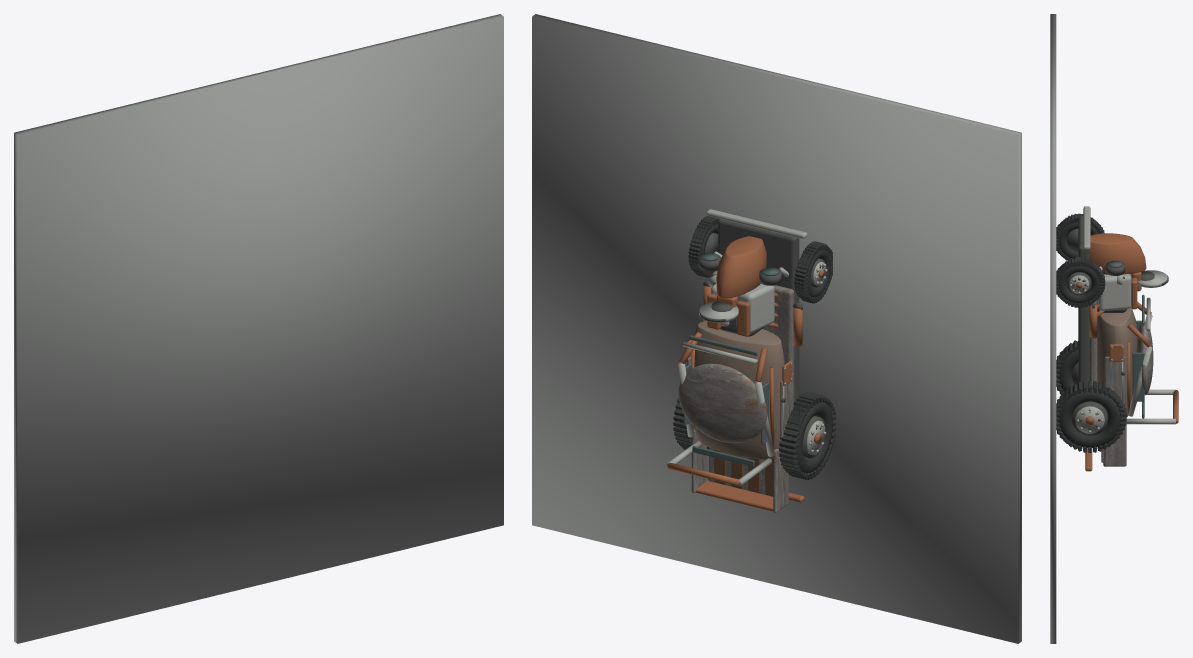
Rendered from rattler.glb.
The picture shows the model from 3 angles, left to right: view 1: azimuth 30°, elevation 25°; view 2: azimuth 150°, elevation 25°; view 3: azimuth 270°, elevation 25°; orthographic projection. The views are drawn at different scales.
Visible parts, largest first — view 1: Review ground; view 2: Review ground, Crowned chopped roof skin, Curved chopped cab lower shell, Twin ladder rails, Narrow hand-rolled grille shell, Floor pan, Game-pattern torus tyre.001, Cast cylinder head, Steel tailgate, Front narrow tube bumper, Pickup bed rolled side; view 3: Review ground, Curved chopped cab lower shell, Game-pattern torus tyre.003, Narrow hand-rolled grille shell, Twin ladder rails, Cast cylinder head.001, Game-pattern torus tyre.002, Curved door lower panel right, Pickup bed rolled side.001, Crowned chopped roof skin, Worn alloy wheel face.003, Game-pattern torus tyre.001 (+14 smaller).
Boxes of the visible parts, bbox=[...] form: Review ground: bbox=[14, 14, 503, 643]; Review ground: bbox=[532, 14, 1021, 643]; Crowned chopped roof skin: bbox=[678, 363, 767, 443]; Curved chopped cab lower shell: bbox=[694, 321, 784, 459]; Twin ladder rails: bbox=[718, 219, 799, 400]; Narrow hand-rolled grille shell: bbox=[716, 236, 766, 298]; Floor pan: bbox=[712, 271, 794, 402]; Game-pattern torus tyre.001: bbox=[786, 402, 832, 473]; Cast cylinder head: bbox=[736, 283, 774, 332]; Steel tailgate: bbox=[695, 480, 773, 511]; Front narrow tube bumper: bbox=[706, 209, 807, 238]; Pickup bed rolled side: bbox=[773, 449, 788, 512]; Review ground: bbox=[1050, 14, 1056, 643]; Curved chopped cab lower shell: bbox=[1097, 307, 1137, 417]; Game-pattern torus tyre.003: bbox=[1057, 385, 1122, 447]; Narrow hand-rolled grille shell: bbox=[1089, 233, 1146, 274]; Twin ladder rails: bbox=[1078, 216, 1089, 386]; Cast cylinder head.001: bbox=[1097, 274, 1131, 310]; Game-pattern torus tyre.002: bbox=[1058, 264, 1099, 303]; Curved door lower panel right: bbox=[1104, 356, 1124, 404]; Pickup bed rolled side.001: bbox=[1104, 421, 1126, 466]; Crowned chopped roof skin: bbox=[1136, 321, 1153, 395]; Worn alloy wheel face.003: bbox=[1075, 406, 1104, 433]; Game-pattern torus tyre.001: bbox=[1057, 349, 1078, 391].
Bounding box in the file's own units: 8 × 8 × 2.17.
9 materials, 2 textured.
